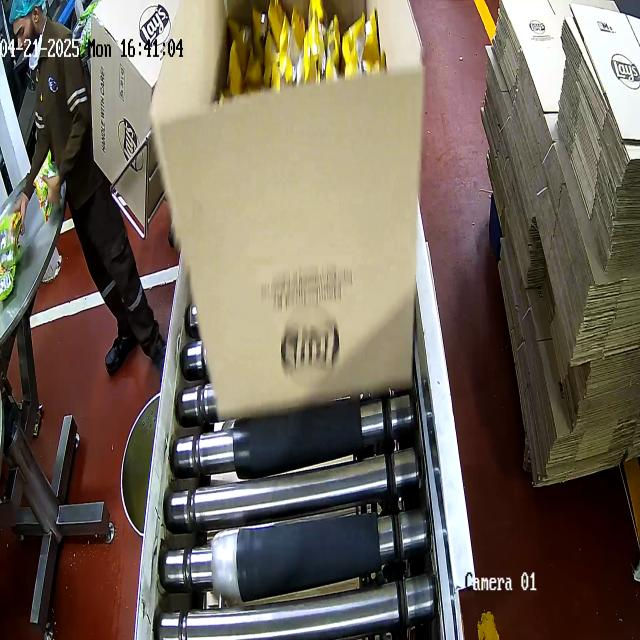SALTED: (222, 0, 386, 98)
